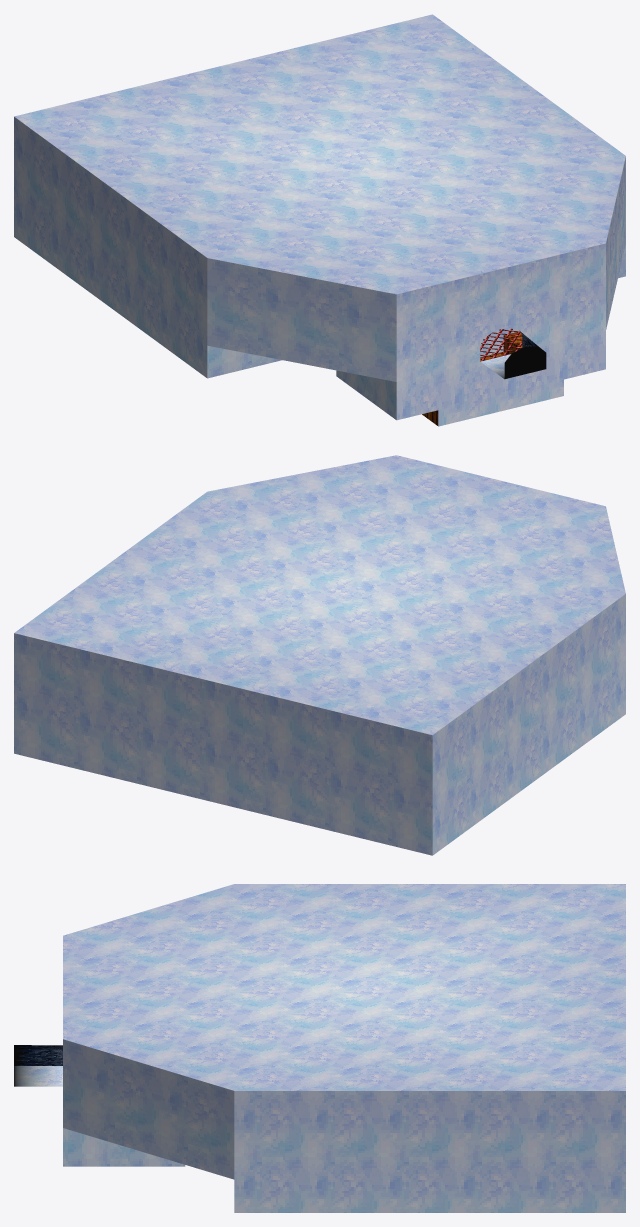
The model's file is snow_kama_all.glb.
3 renders of one model, top to bottom at view 1: azimuth 30°, elevation 25°; view 2: azimuth 150°, elevation 25°; view 3: azimuth 270°, elevation 25°, orthographic.
Visible parts, largest first — view 1: snow_kama_all; view 2: snow_kama_all; view 3: snow_kama_all.
Boxes of the visible parts, x1,y1,x2,y2 form: snow_kama_all: (14, 14, 625, 426); snow_kama_all: (14, 455, 625, 855); snow_kama_all: (14, 884, 625, 1212).
Bounding box in the file's own units: 4 × 1.3 × 5.
Materials: 5 (5 with a texture image).
